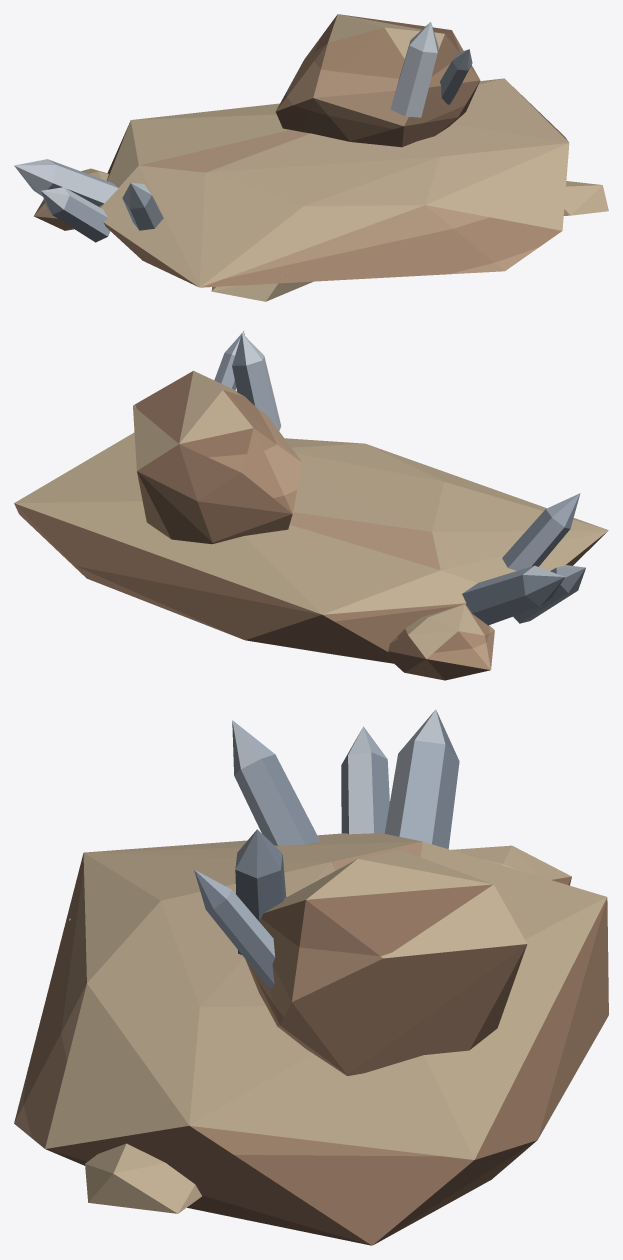
File: rock_desert_1.glb
3 renders of one model, top to bottom at view 1: azimuth 30°, elevation 25°; view 2: azimuth 150°, elevation 25°; view 3: azimuth 270°, elevation 25°, orthographic. The views are drawn at different scales.
Visible parts, largest first — view 1: Body; view 2: Body; view 3: Body.
Part boxes in pixels (x1,y1,x2,y2): Body: (14, 14, 608, 301); Body: (14, 331, 608, 680); Body: (14, 709, 608, 1245).
Bounding box in the file's own units: 4.86 × 1.67 × 3.03.
